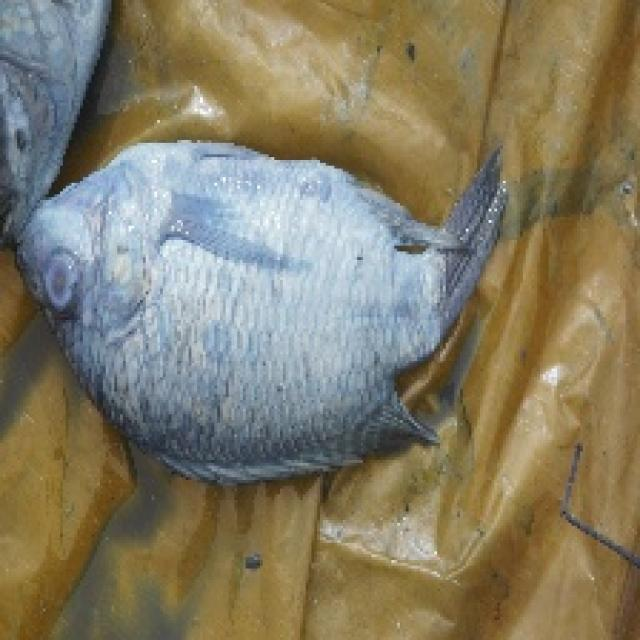Non-Fresh: (18, 139, 426, 503)
